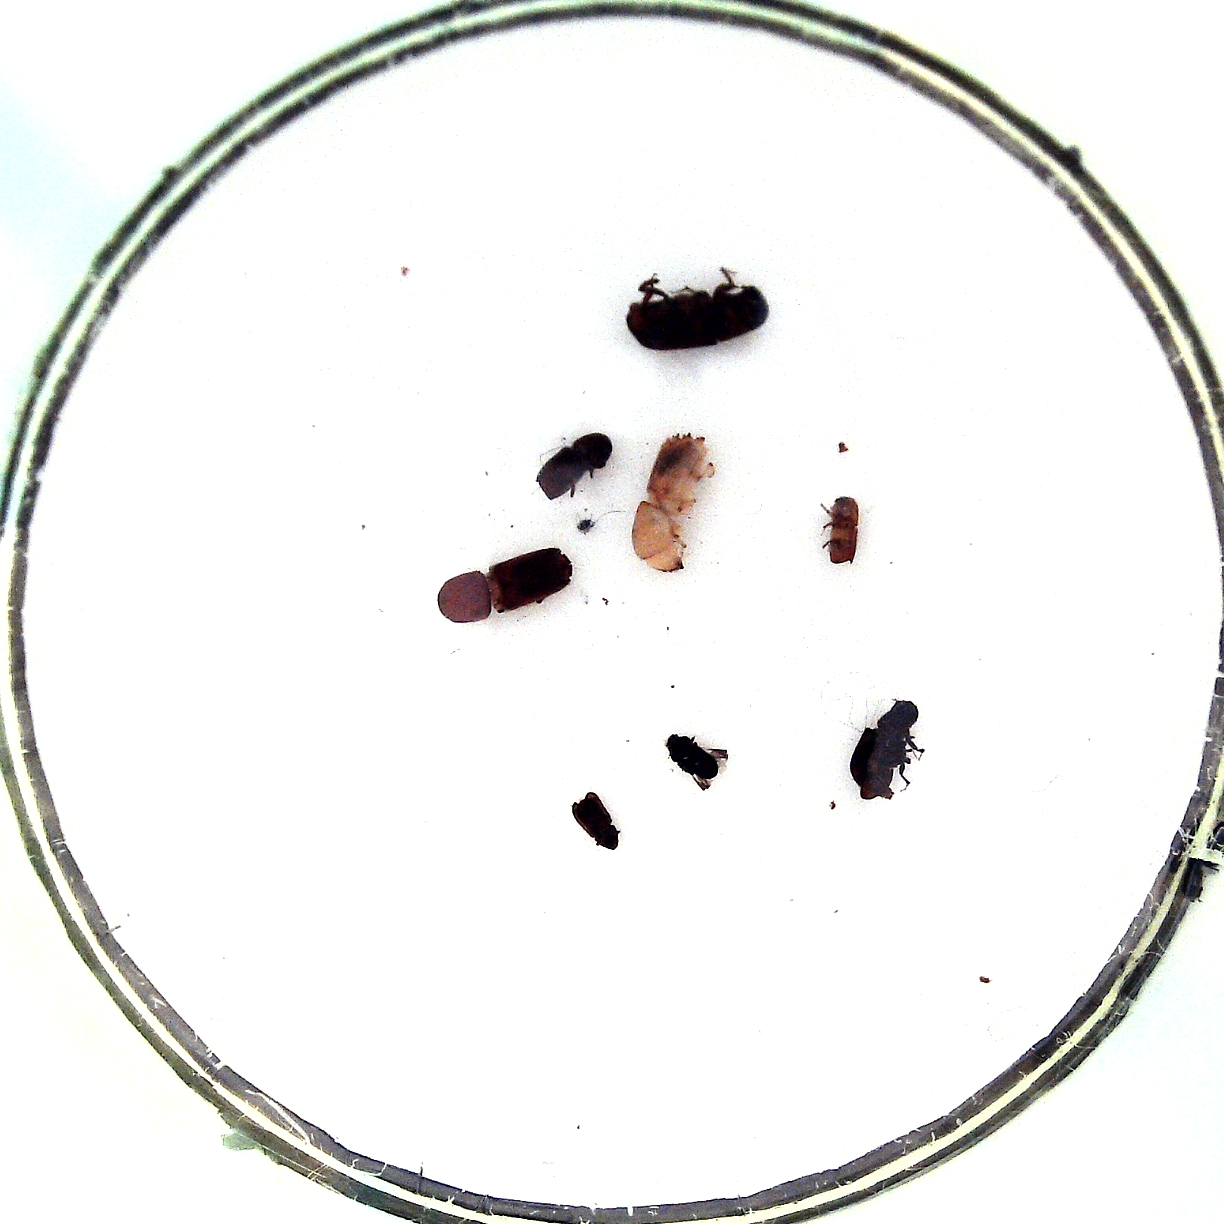Boerner: (631, 433, 708, 572), (439, 547, 573, 624)
Leconte: (625, 286, 770, 350)
acuminatus: (666, 733, 718, 780)
armandi: (851, 701, 918, 800)
coleoptera: (572, 791, 619, 851), (829, 497, 859, 567)
linnaeus: (536, 433, 612, 501)
